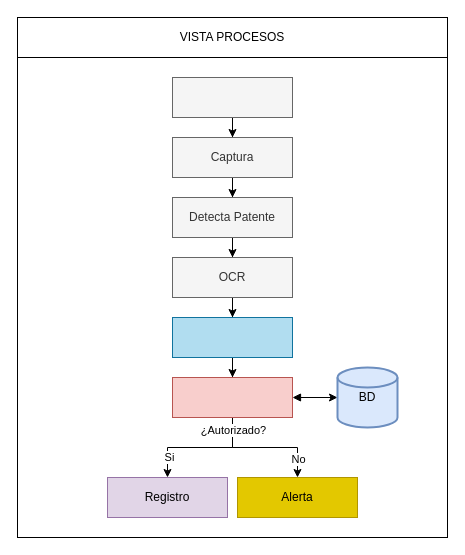
This 465x555 diagram has some shape labels left out. The box of each missing label's shape, as (x1, y1, x2, y2) in pixels:
Consulta Autorización: (172, 376, 292, 418)
Cámara: (172, 76, 292, 118)
Validación: (172, 316, 292, 358)
